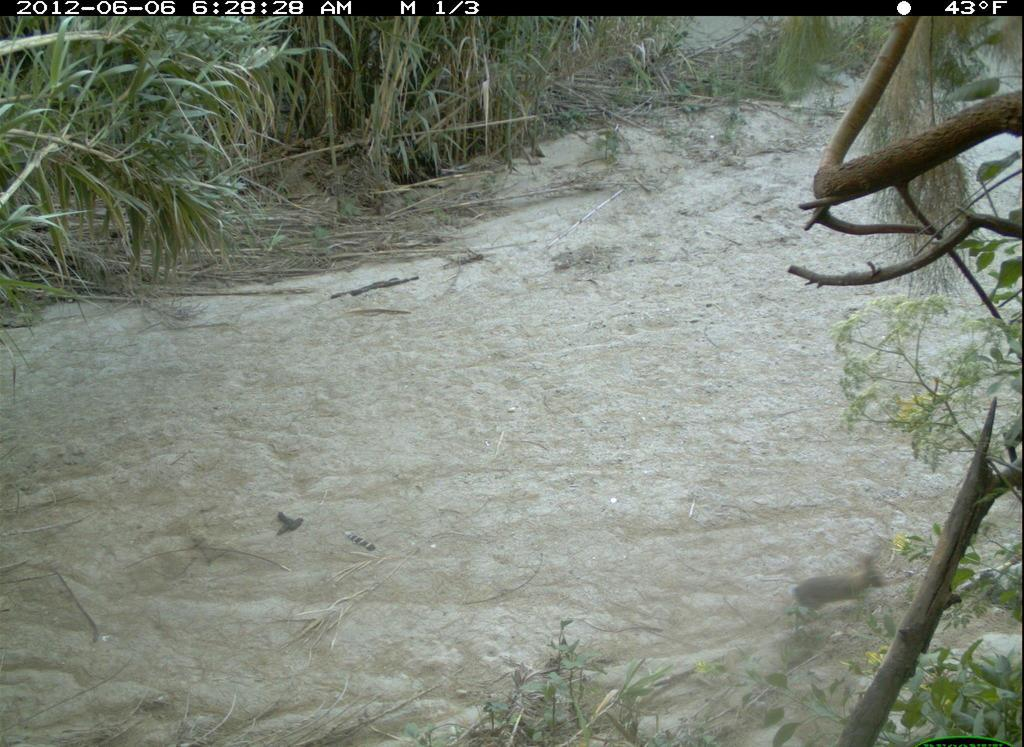rabbit: (792, 552, 899, 624)
